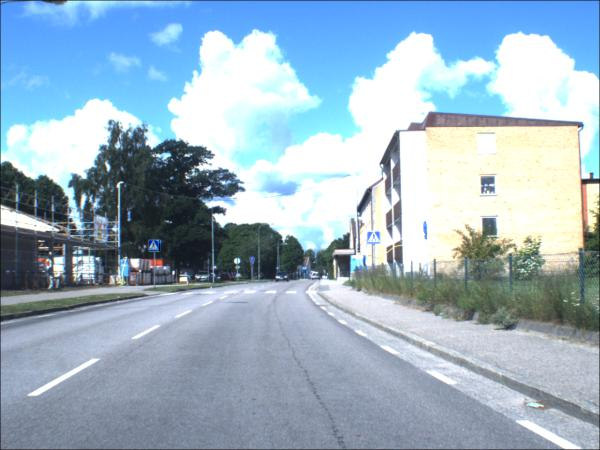PASS_RIGHT_SIDE: (304, 272, 308, 276)
PEDESTRIAN_CROSSING: (369, 232, 382, 246), (151, 242, 163, 254), (304, 268, 307, 271)
